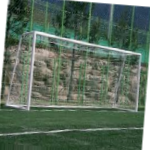goals: (6, 30, 143, 113)
